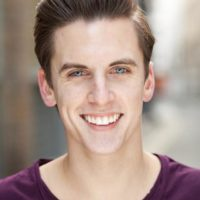bad: (44, 44, 151, 152)
